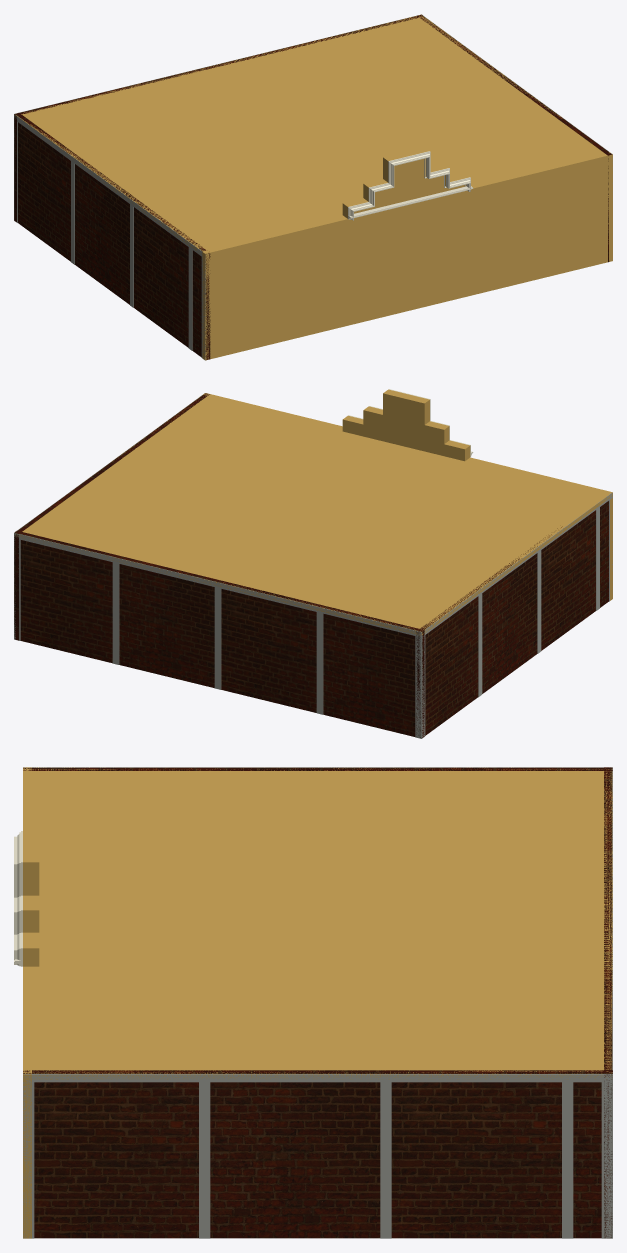
Rendered from building.glb.
3 views of the same model, one above another, from view 1: azimuth 30°, elevation 25°; view 2: azimuth 150°, elevation 25°; view 3: azimuth 270°, elevation 25° (orthographic). The views are drawn at different scales.
Visible parts, largest first — view 1: roof/house:0/roof_slab#0001, house:0/edge0/z0/house:0/edge0/z0/wall_0_0, house:0/edge3/z0/house:0/edge3/z0/wall_0_0, crown/coronamiento/crown_body#0001, house:0/edge2/z0/house:0/edge2/z0/wall_0_0, crown/coronamiento/crown_moulding#0001, house:0/edge3/z0/house:0/edge3/z0/beam_0_0, house:0/edge1/z0/house:0/edge1/z0/wall_0_0, crown/coronamiento/crown_base_cornice#0001, house:0/edge3/z0/house:0/edge3/z0/column_4_0; view 2: roof/house:0/roof_slab#0001, house:0/edge2/z0/house:0/edge2/z0/wall_0_0, house:0/edge3/z0/house:0/edge3/z0/wall_0_0, crown/coronamiento/crown_body#0001, house:0/edge2/z0/house:0/edge2/z0/beam_0_0, house:0/edge1/z0/house:0/edge1/z0/wall_0_0, house:0/edge0/z0/house:0/edge0/z0/wall_0_0, house:0/edge3/z0/house:0/edge3/z0/beam_0_0, house:0/edge2/z0/house:0/edge2/z0/column_2_0, house:0/edge2/z0/house:0/edge2/z0/column_3_0, house:0/edge2/z0/house:0/edge2/z0/column_4_0, house:0/edge2/z0/house:0/edge2/z0/column_1_0 (+2 smaller); view 3: roof/house:0/roof_slab#0001, house:0/edge1/z0/house:0/edge1/z0/wall_0_0, house:0/edge1/z0/house:0/edge1/z0/beam_0_0, house:0/edge2/z0/house:0/edge2/z0/wall_0_0, house:0/edge0/z0/house:0/edge0/z0/wall_0_0, house:0/edge3/z0/house:0/edge3/z0/wall_0_0, crown/coronamiento/crown_body#0001, house:0/edge1/z0/house:0/edge1/z0/column_1_0, house:0/edge1/z0/house:0/edge1/z0/column_2_0, house:0/edge1/z0/house:0/edge1/z0/column_3_0, house:0/edge1/z0/house:0/edge1/z0/column_4_0, house:0/edge1/z0/house:0/edge1/z0/column_0_0 (+1 smaller).
Part boxes in pixels (<box>): roof/house:0/roof_slab#0001: <box>15,15,612,257</box>; house:0/edge0/z0/house:0/edge0/z0/wall_0_0: <box>202,152,612,360</box>; house:0/edge3/z0/house:0/edge3/z0/wall_0_0: <box>16,113,210,359</box>; crown/coronamiento/crown_body#0001: <box>342,147,468,217</box>; house:0/edge2/z0/house:0/edge2/z0/wall_0_0: <box>14,14,422,222</box>; crown/coronamiento/crown_moulding#0001: <box>348,151,470,220</box>; house:0/edge3/z0/house:0/edge3/z0/beam_0_0: <box>14,114,205,258</box>; house:0/edge1/z0/house:0/edge1/z0/wall_0_0: <box>417,15,612,262</box>; crown/coronamiento/crown_base_cornice#0001: <box>348,186,473,219</box>; house:0/edge3/z0/house:0/edge3/z0/column_4_0: <box>188,247,192,350</box>; roof/house:0/roof_slab#0001: <box>14,394,612,635</box>; house:0/edge2/z0/house:0/edge2/z0/wall_0_0: <box>15,530,424,737</box>; house:0/edge3/z0/house:0/edge3/z0/wall_0_0: <box>416,501,608,738</box>; crown/coronamiento/crown_body#0001: <box>342,390,469,461</box>; house:0/edge2/z0/house:0/edge2/z0/beam_0_0: <box>14,533,421,637</box>; house:0/edge1/z0/house:0/edge1/z0/wall_0_0: <box>14,393,209,640</box>; house:0/edge0/z0/house:0/edge0/z0/wall_0_0: <box>203,393,612,600</box>; house:0/edge3/z0/house:0/edge3/z0/beam_0_0: <box>421,492,612,636</box>; house:0/edge2/z0/house:0/edge2/z0/column_2_0: <box>112,562,119,664</box>; house:0/edge2/z0/house:0/edge2/z0/column_3_0: <box>214,587,221,689</box>; house:0/edge2/z0/house:0/edge2/z0/column_4_0: <box>316,612,323,714</box>; house:0/edge2/z0/house:0/edge2/z0/column_1_0: <box>415,636,421,738</box>; roof/house:0/roof_slab#0001: <box>23,767,612,1079</box>; house:0/edge1/z0/house:0/edge1/z0/wall_0_0: <box>23,1070,612,1238</box>; house:0/edge1/z0/house:0/edge1/z0/beam_0_0: <box>23,1074,612,1082</box>; house:0/edge2/z0/house:0/edge2/z0/wall_0_0: <box>604,767,612,1237</box>; house:0/edge0/z0/house:0/edge0/z0/wall_0_0: <box>23,767,31,1238</box>; house:0/edge3/z0/house:0/edge3/z0/wall_0_0: <box>23,767,612,770</box>; crown/coronamiento/crown_body#0001: <box>25,831,39,966</box>; house:0/edge1/z0/house:0/edge1/z0/column_1_0: <box>601,1082,612,1238</box>; house:0/edge1/z0/house:0/edge1/z0/column_2_0: <box>199,1082,210,1238</box>; house:0/edge1/z0/house:0/edge1/z0/column_3_0: <box>380,1082,391,1238</box>; house:0/edge1/z0/house:0/edge1/z0/column_4_0: <box>562,1082,573,1238</box>; house:0/edge1/z0/house:0/edge1/z0/column_0_0: <box>23,1082,34,1238</box>.
Bounding box in the file's own units: 16 × 5.8 × 13.2.
4 materials, 1 textured.
